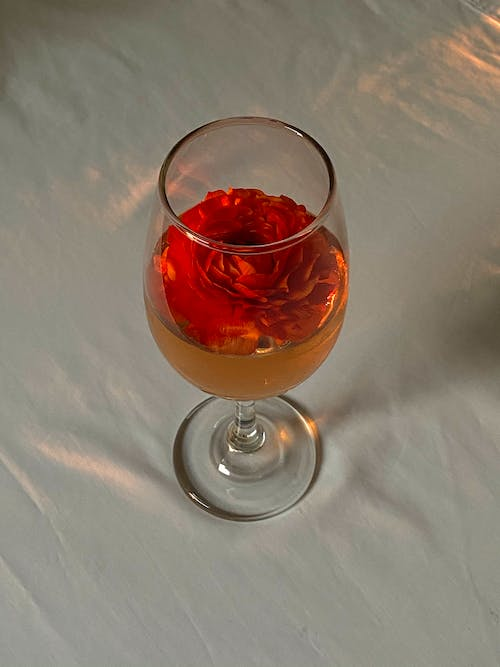alcohol: (140, 113, 351, 525)
